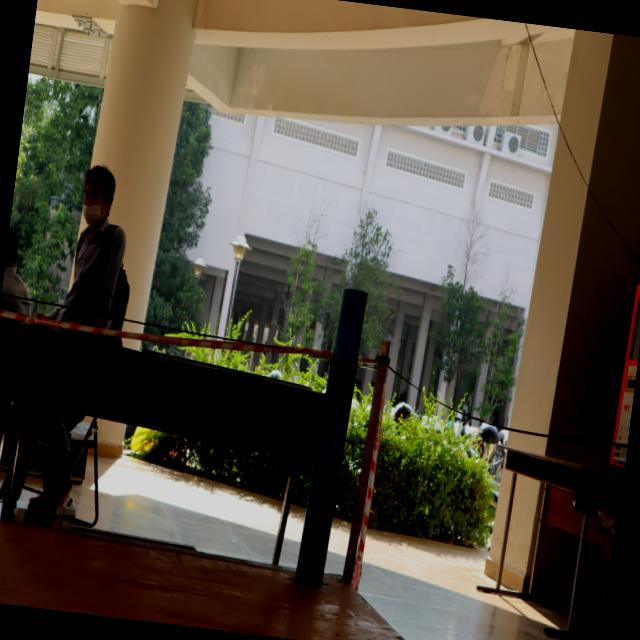pole: (303, 281, 391, 433)
